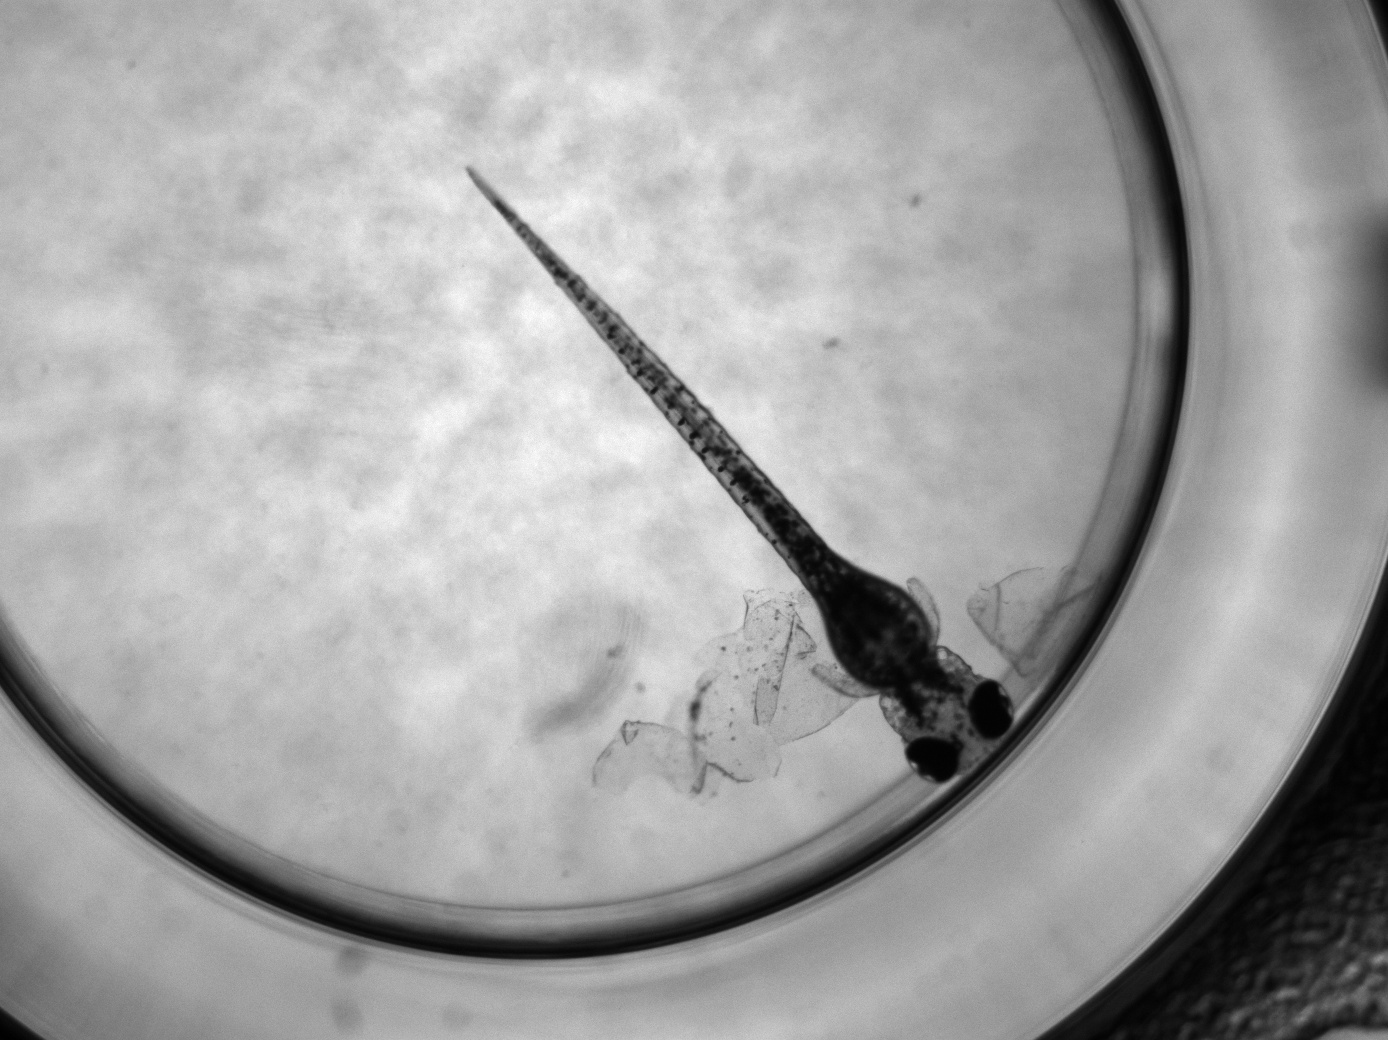debris: (589, 591, 800, 808)
embryo: (463, 165, 1016, 784)
eye: (968, 679, 1015, 738), (903, 737, 957, 784)
yolksac: (825, 580, 936, 688)
